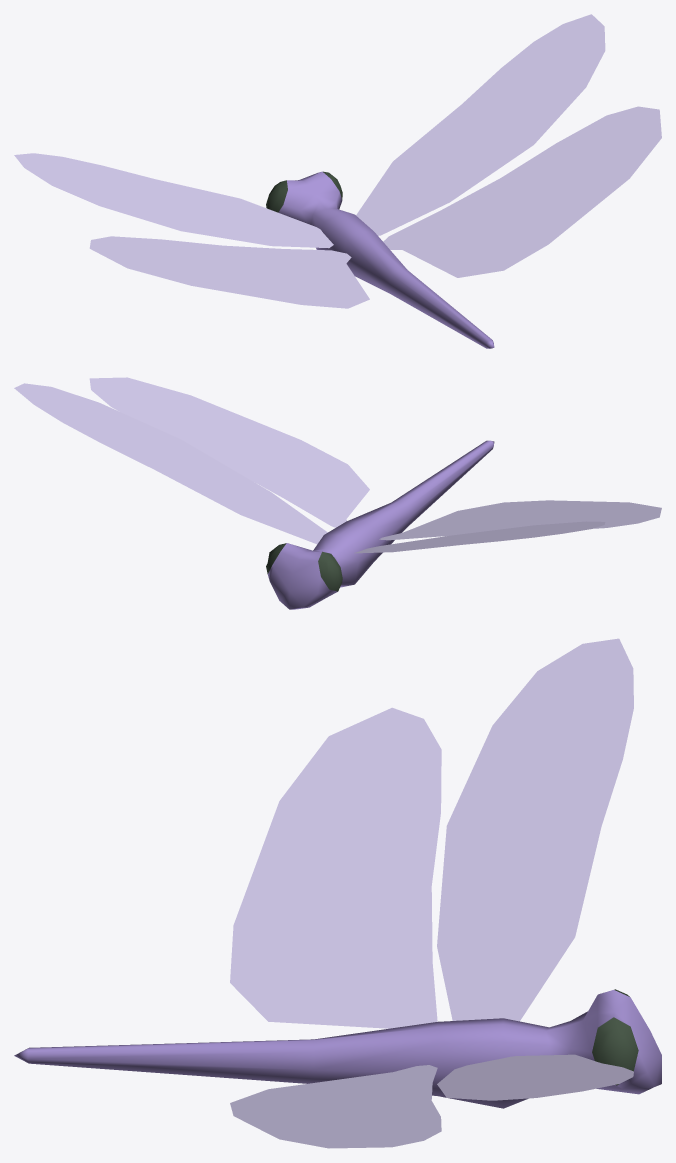
Rendered from Dragonfly_1.gltf.
3 views of the same model, one above another, from view 1: azimuth 30°, elevation 25°; view 2: azimuth 150°, elevation 25°; view 3: azimuth 270°, elevation 25° (orthographic). The views are drawn at different scales.
Visible parts, largest first — view 1: Dragonfly_1; view 2: Dragonfly_1; view 3: Dragonfly_1.
Boxes of the visible parts, x1,y1,x2,y2 form: Dragonfly_1: [14, 14, 661, 348]; Dragonfly_1: [14, 377, 661, 609]; Dragonfly_1: [14, 638, 661, 1148].
Size of the model in its own units: 23.99 by 6.16 by 14.68.
Materials: 1 (1 with a texture image).
